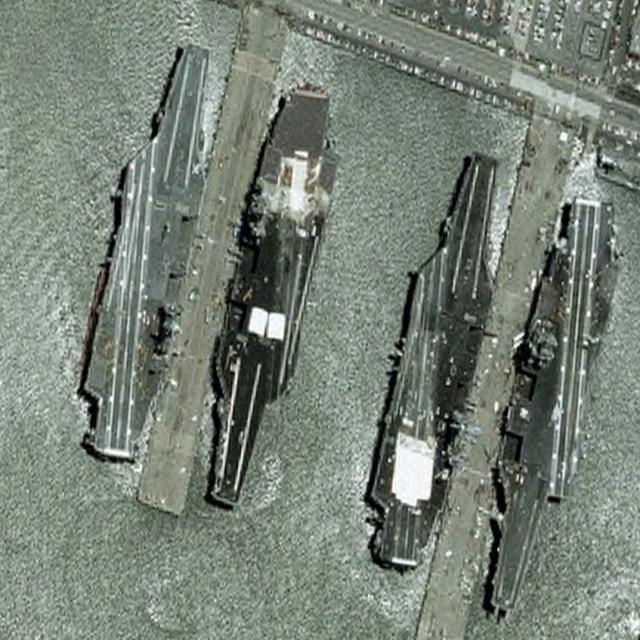Aircraft Carrier: (182, 73, 356, 520), (465, 182, 633, 628), (67, 29, 234, 472), (355, 141, 520, 584)
